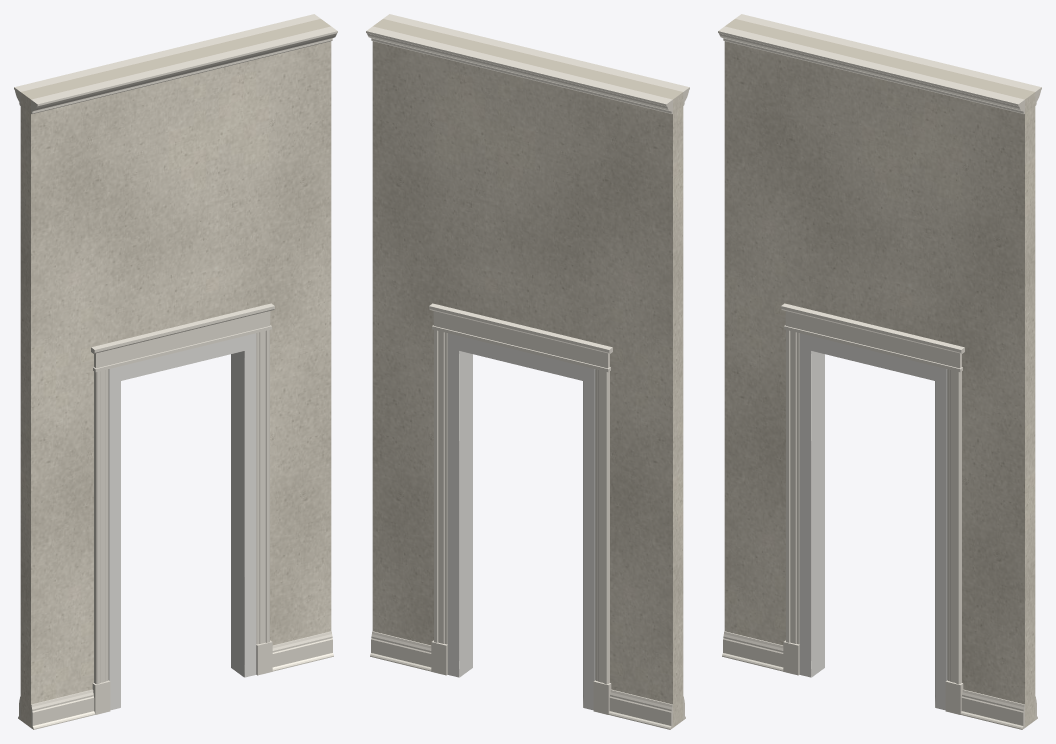
The model's file is interior_wall_doorway.glb.
3 views of the same model, side by side, from view 1: azimuth 30°, elevation 25°; view 2: azimuth 150°, elevation 25°; view 3: azimuth 330°, elevation 25° (orthographic).
Visible parts, largest first — view 1: interior_wall_doorway_plaster, molduras, interior_wall_doorway_frame; view 2: interior_wall_doorway_plaster, molduras, interior_wall_doorway_frame; view 3: interior_wall_doorway_plaster, molduras, interior_wall_doorway_frame.
Part boxes in pixels (x1=…): interior_wall_doorway_plaster: x1=20, y1=19, x2=331, y2=727; molduras: x1=14, y1=14, x2=337, y2=729; interior_wall_doorway_frame: x1=108, y1=333, x2=256, y2=710; interior_wall_doorway_plaster: x1=372, y1=19, x2=683, y2=727; molduras: x1=366, y1=14, x2=689, y2=729; interior_wall_doorway_frame: x1=447, y1=333, x2=595, y2=710; interior_wall_doorway_plaster: x1=724, y1=19, x2=1035, y2=727; molduras: x1=718, y1=14, x2=1041, y2=729; interior_wall_doorway_frame: x1=799, y1=333, x2=947, y2=710.
Size of the model in its own units: 2 by 4 by 0.27.
3 materials, 1 textured.
